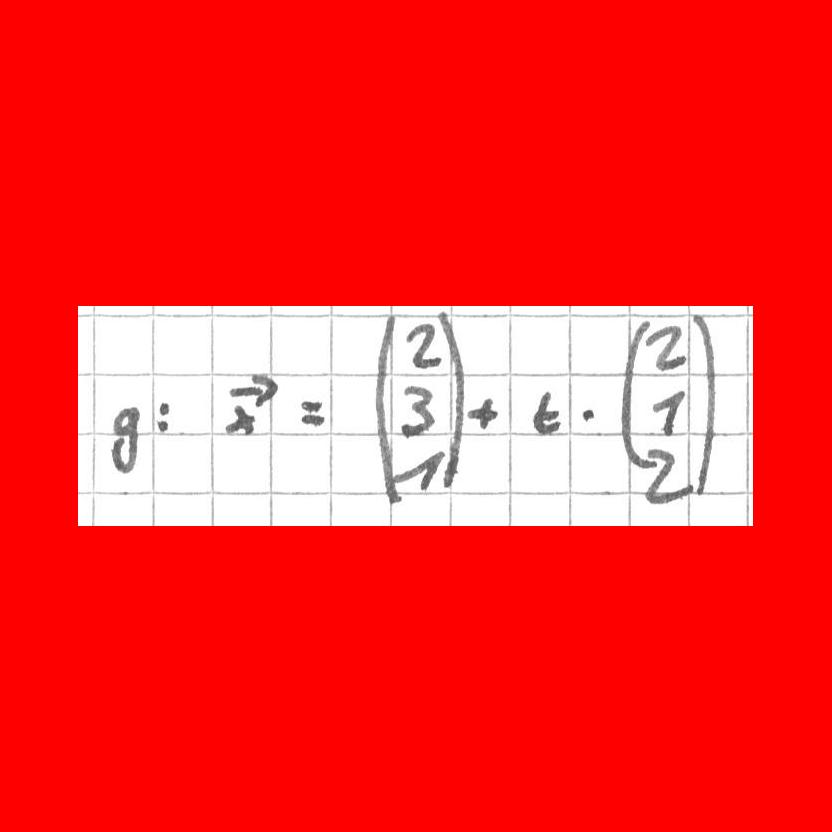Char: (369, 309, 399, 510), (688, 309, 719, 501), (436, 307, 466, 502), (619, 317, 652, 471), (644, 445, 695, 505), (643, 317, 690, 376), (107, 404, 145, 474), (392, 445, 445, 492), (528, 383, 567, 441), (224, 370, 280, 410), (646, 387, 687, 439), (400, 381, 433, 444), (401, 325, 439, 370), (463, 397, 498, 432), (222, 403, 257, 437), (299, 395, 329, 429), (575, 399, 600, 428), (156, 399, 173, 434)
